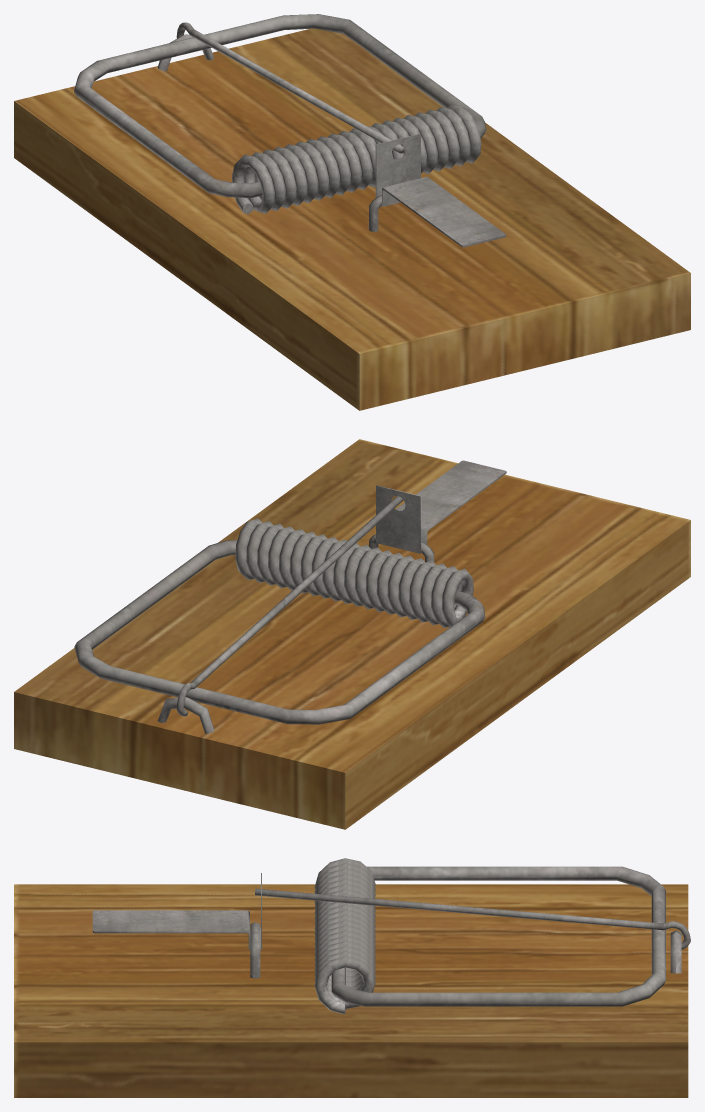
File: trap01.FBX
3 renders of one model, top to bottom at view 1: azimuth 30°, elevation 25°; view 2: azimuth 150°, elevation 25°; view 3: azimuth 270°, elevation 25°, orthographic. The views are drawn at different scales.
Visible parts, largest first — view 1: Object002; view 2: Object002; view 3: Object002.
Boxes of the visible parts, x1=… form: Object002: x1=14, y1=14, x2=690, y2=410; Object002: x1=14, y1=439, x2=690, y2=829; Object002: x1=14, y1=858, x2=690, y2=1097.
Size of the model in its own units: 15.25 by 6.09 by 27.64.
